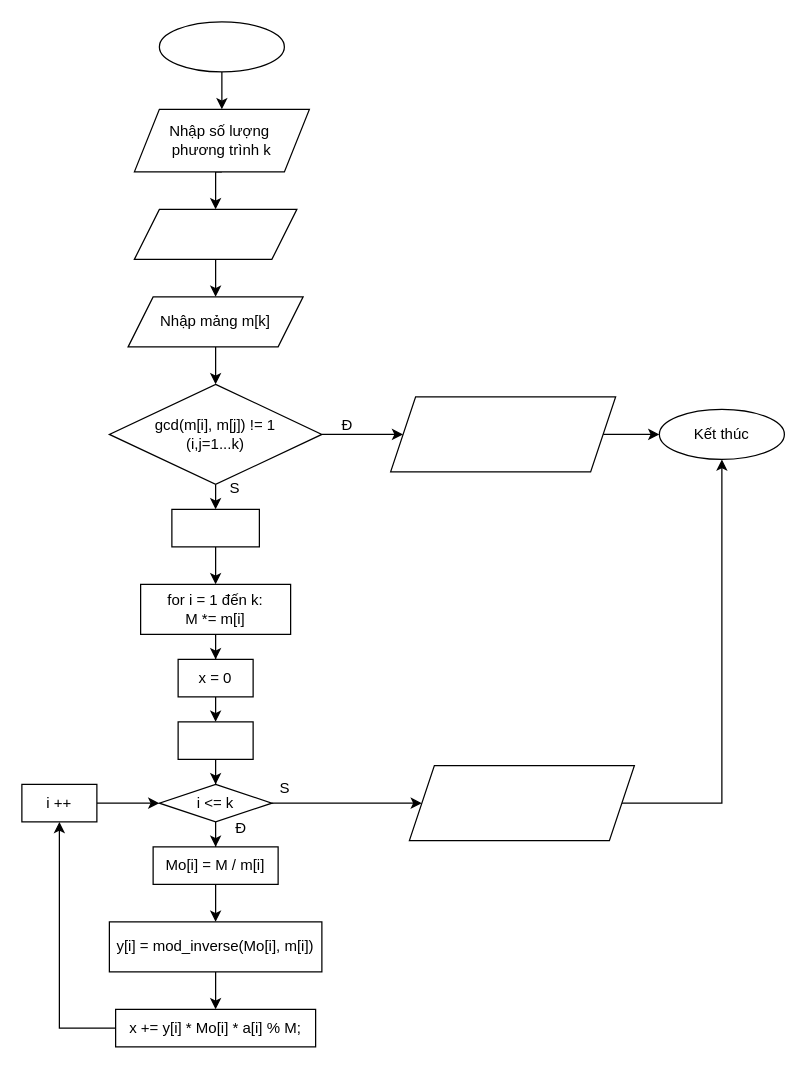
This 806x1069 diagram has some shape labels left out. The centre of each missing label's shape, as x and y in pixels:
"Bắt đầu" goes at [221,46].
"i = 1" goes at [215,740].
"Không phải là hệ phương trình đồng dư Trung Hoa" goes at [502,434].
"M = 1" goes at [215,527].
"Nhập mảng a[k]" goes at [215,233].
"Xuất ra kết quả X = x%M" goes at [521,802].
